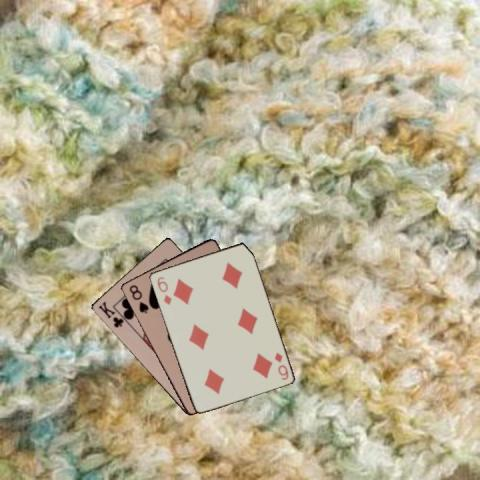6d: (154, 273, 173, 306), (271, 350, 290, 382)
8s: (126, 281, 150, 315)
Kc: (95, 299, 125, 329)
